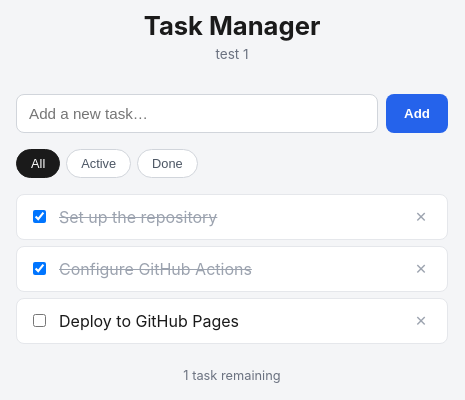
filters to show only done tasks
The width and height of the screenshot is (465, 400).
Click the button "Done": (167, 163) [137,149,198,178]
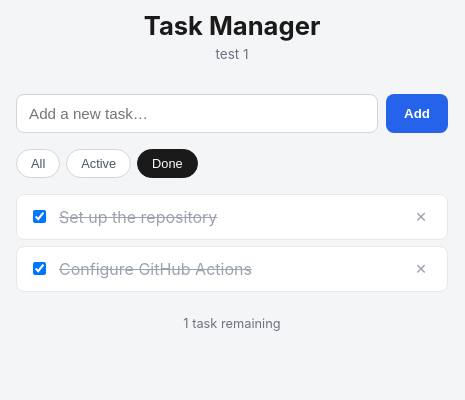
Check: the text "Set up the repository" is shown, box [59,207,217,227]
Check: the text "Deploy to GitHub Pages" is gone
